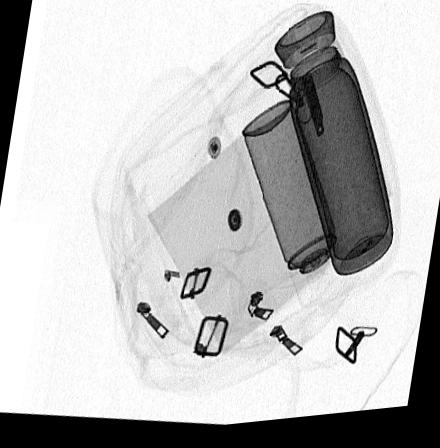Sprayer: (240, 105, 337, 315)
